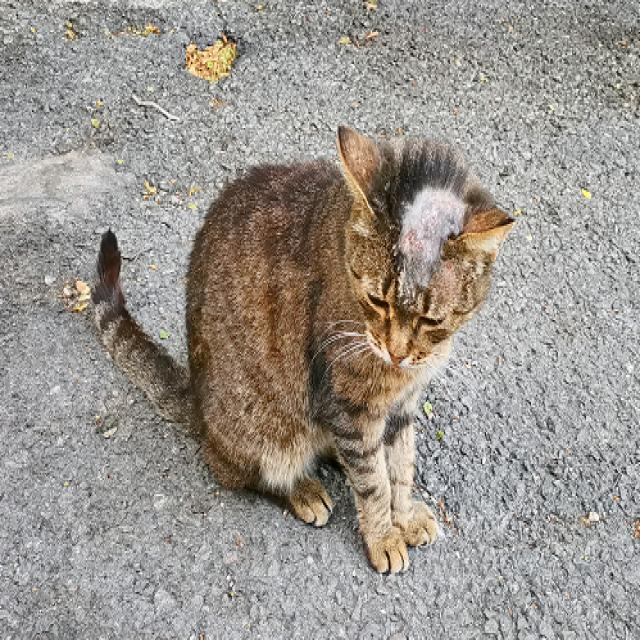hac lao: (392, 178, 474, 307)
